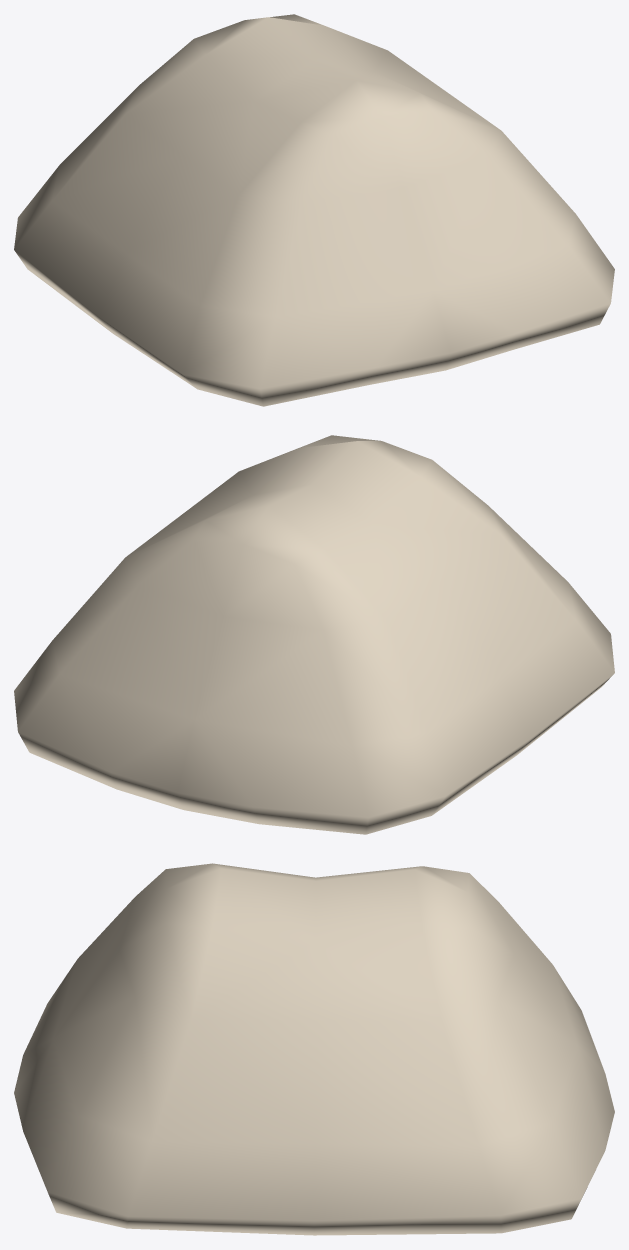
Rendered from thatchroof-base.glb.
3 renders of one model, top to bottom at view 1: azimuth 30°, elevation 25°; view 2: azimuth 150°, elevation 25°; view 3: azimuth 270°, elevation 25°, orthographic. The views are drawn at different scales.
Bounding box in the file's own units: 1.52 × 0.8138 × 1.66.
